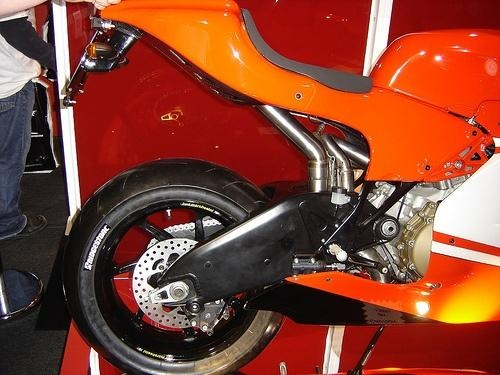motorbike: (62, 2, 500, 375)
